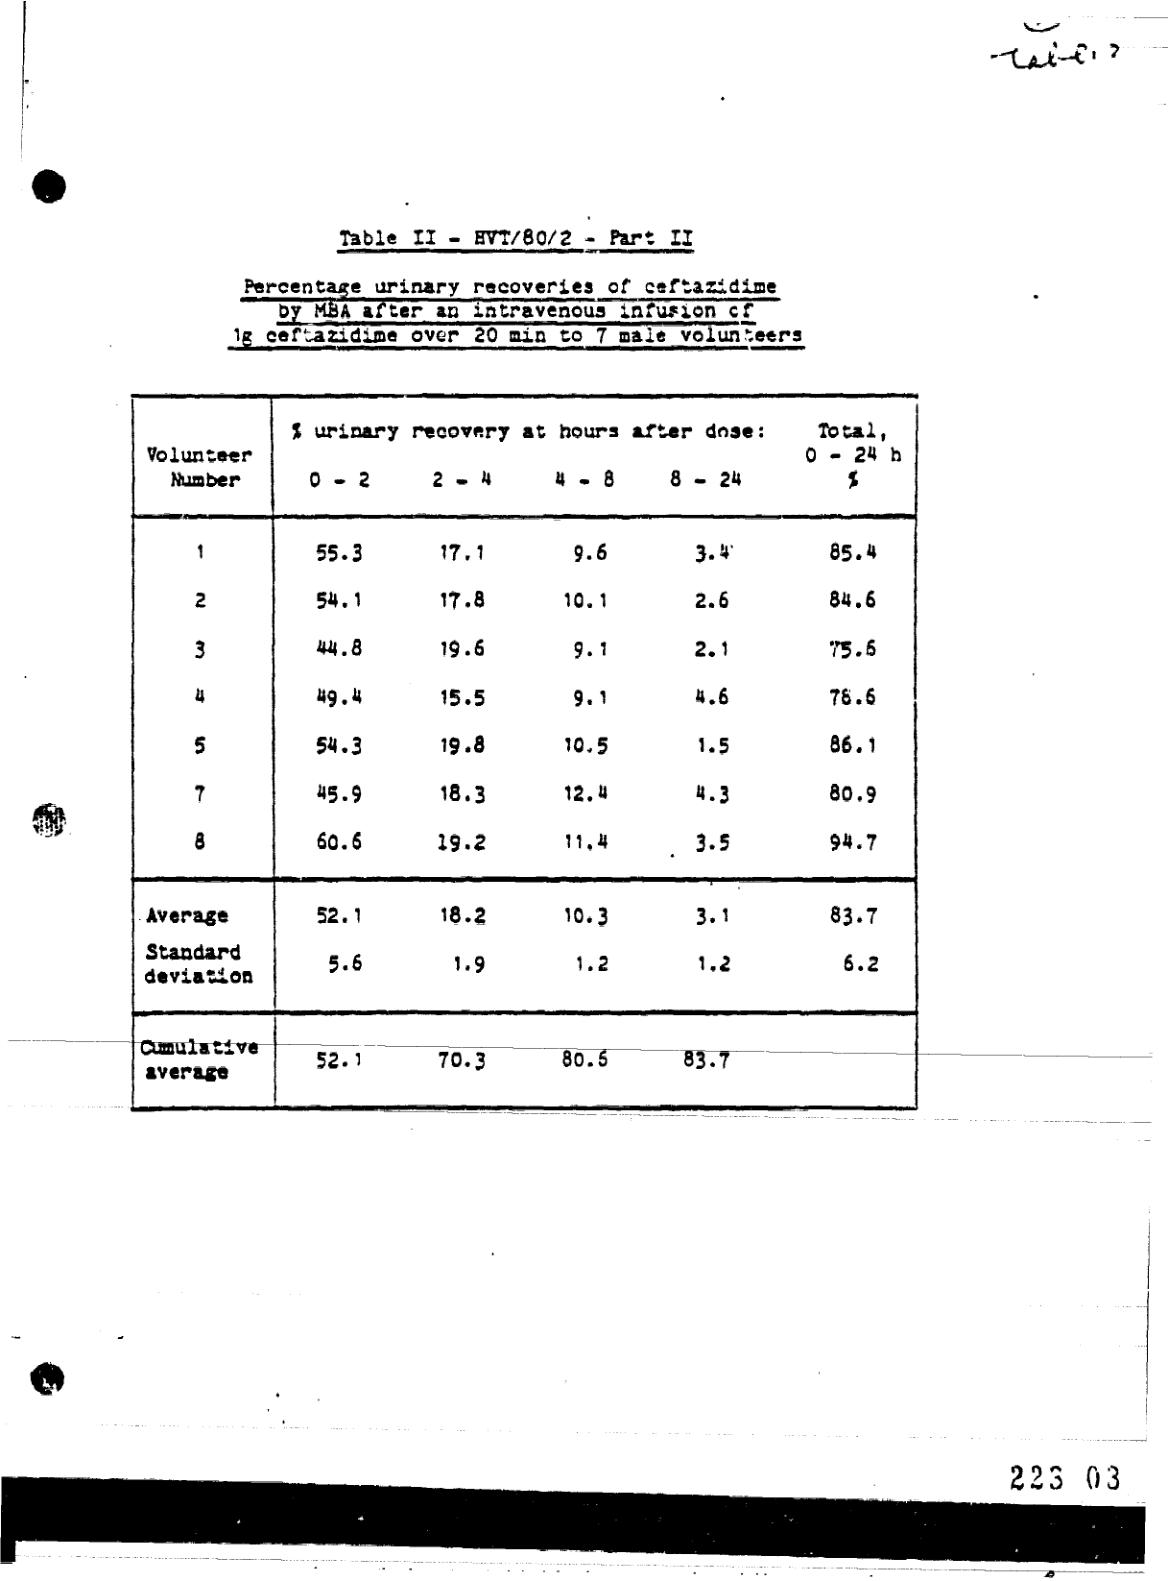partial_lined_merged_cells: (129, 392, 920, 1115)
